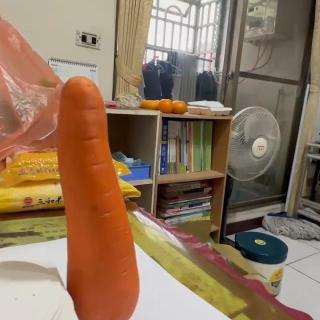carrot: (59, 76, 141, 320)
